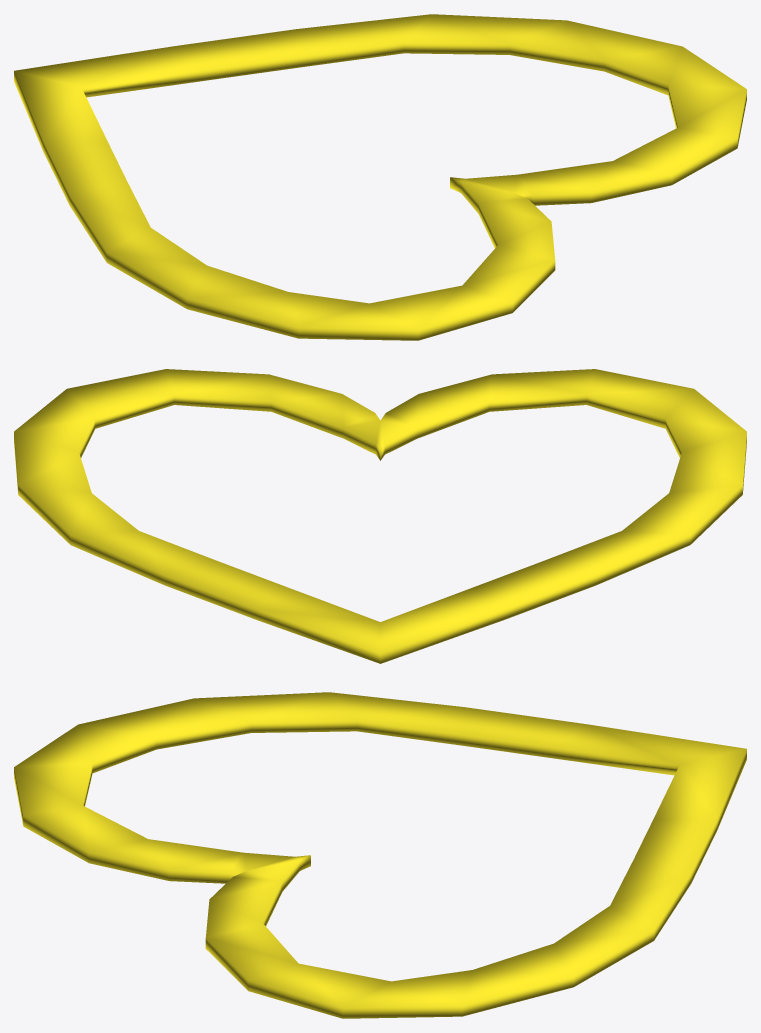
Rendered from heart_4.fbx.
3 views of the same model, one above another, from view 1: azimuth 30°, elevation 25°; view 2: azimuth 150°, elevation 25°; view 3: azimuth 270°, elevation 25° (orthographic). The views are drawn at different scales.
Parts seen in each view (by area): view 1: heart_4; view 2: heart_4; view 3: heart_4.
Part boxes in pixels (x1=…): heart_4: x1=14, y1=14, x2=746, y2=340; heart_4: x1=14, y1=369, x2=746, y2=663; heart_4: x1=14, y1=692, x2=746, y2=1018.
Bounding box in the file's own units: 61.85 × 1 × 60.69.
